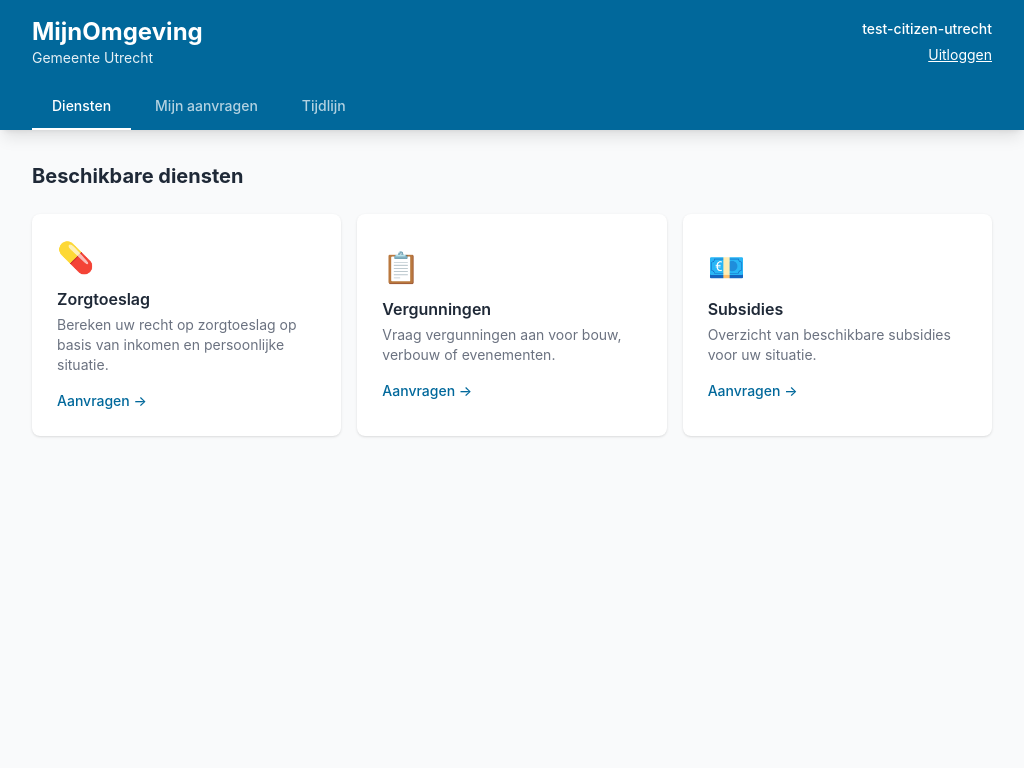
Test: Dashboard zorgtoeslag calculator › reports a refused evaluation as a notice rather than as a decision
Click the heading "Zorgtoeslag": (104, 299) [57,289,150,309]
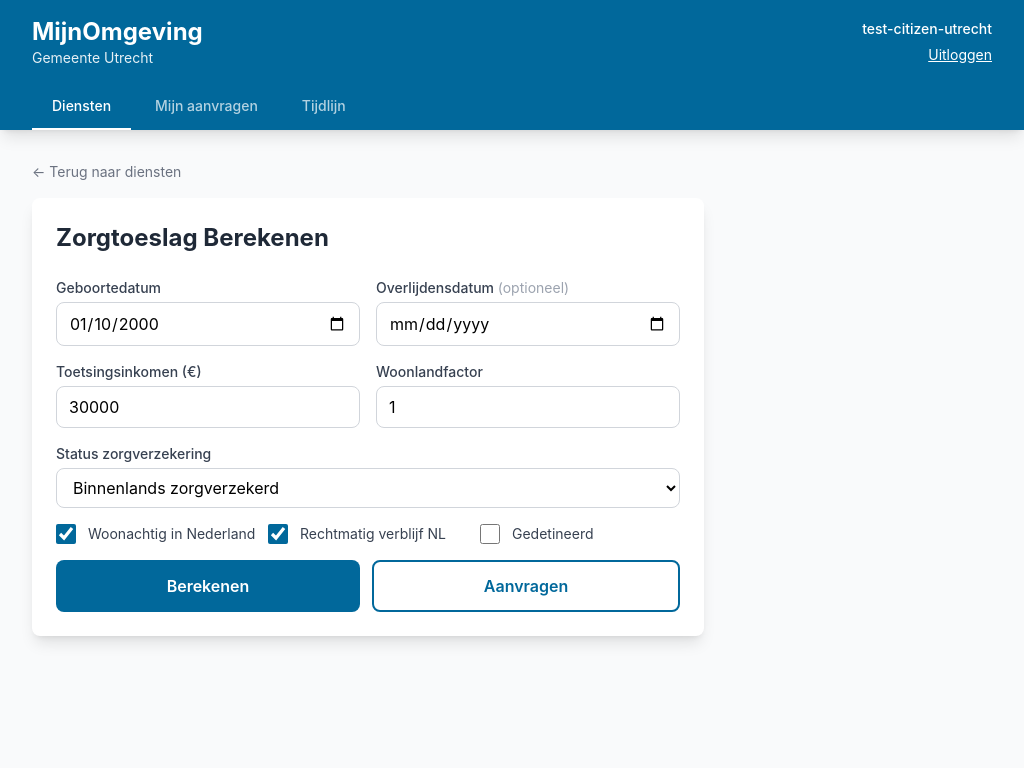
Click the button "Berekenen": (208, 586) [56,560,360,612]
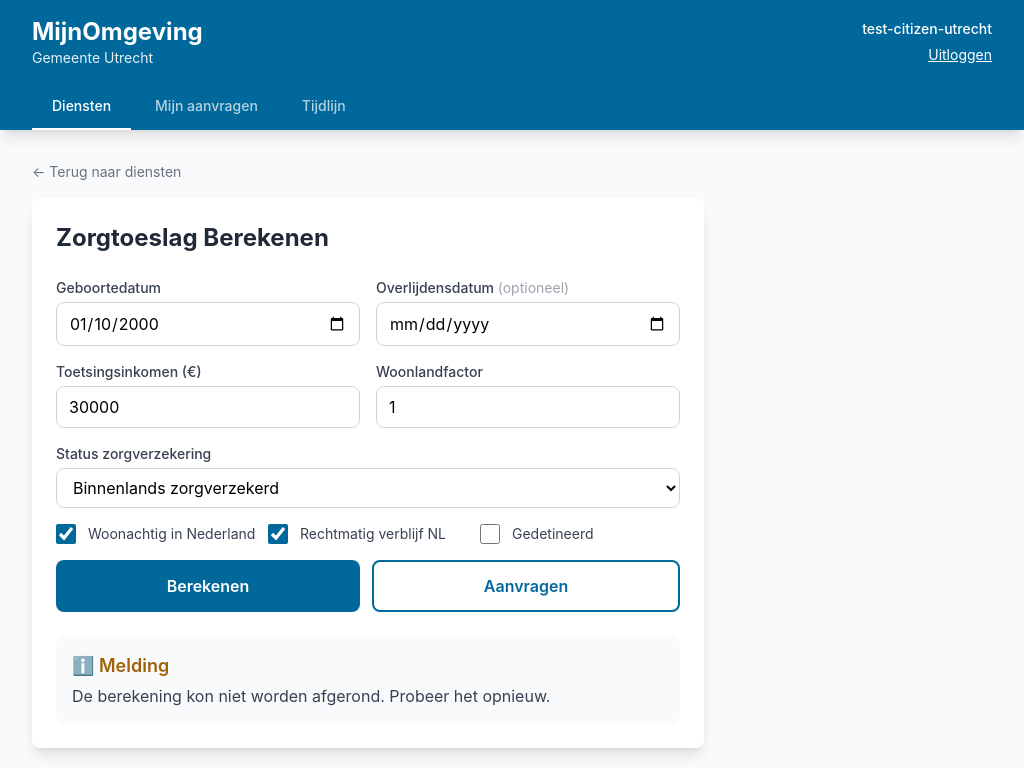
Check: the text "De berekening kon niet worden afgerond. Probeer het opnieuw." is shown, box [72,686,550,706]
